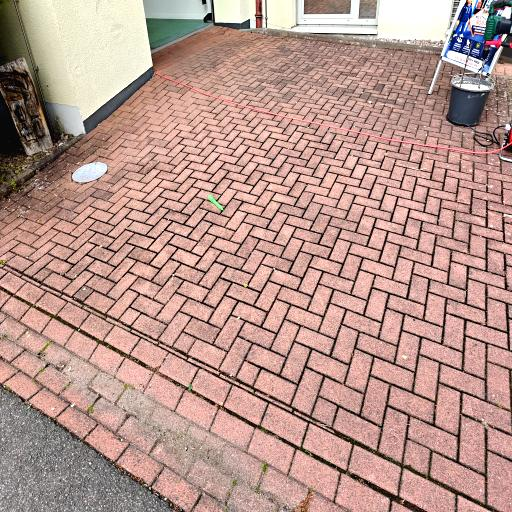Probe-Detection: (208, 195, 224, 211)
